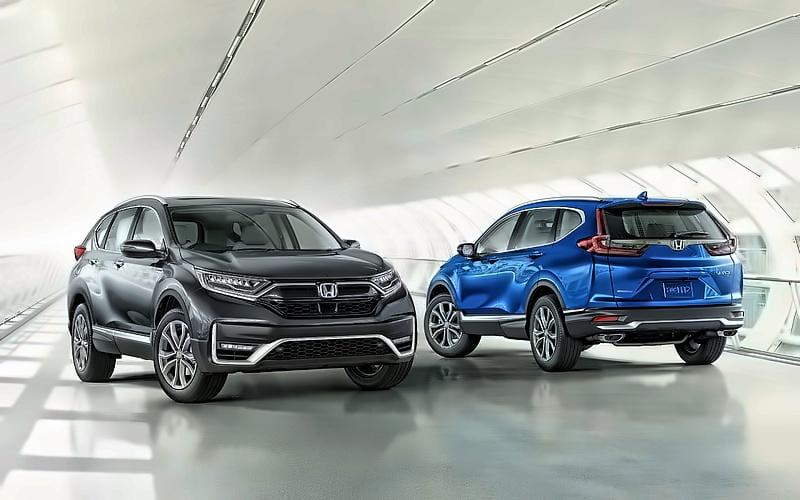Car boot: (597, 199, 736, 313)
Car hood: (177, 246, 387, 280)
Driver-s door - -F-R-: (117, 201, 171, 340)
Fender - -F-L-: (429, 261, 466, 302)
Fender - -F-R-: (151, 240, 204, 360)
Fender - -R-L-: (538, 236, 595, 295)
Fender - -R-R-: (71, 249, 94, 307)
Front bumper: (188, 290, 422, 374)
Headlight - -L-: (365, 267, 406, 300)
Headlight - -R-: (192, 263, 274, 301)
Passenger-s door - -F-L-: (459, 204, 514, 315)
Passenger-s door - -R-L-: (502, 197, 564, 320)
Passenger-s door - -R-R-: (84, 198, 125, 333)
Rear bumper: (562, 270, 750, 347), (63, 262, 81, 326)
Rear light - -L-: (575, 204, 648, 259)
Rear light - -R-: (698, 210, 740, 257), (71, 235, 91, 263)
Side bumper - -L-: (453, 306, 539, 342)
Side bumper - -R-: (86, 316, 158, 365)
Side mirror - -L-: (453, 236, 478, 259), (340, 235, 365, 257)
Side mirror - -R-: (116, 233, 167, 264)
